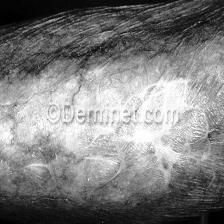Benign Marking or Mole: (14, 36, 203, 96), (0, 121, 123, 188)
